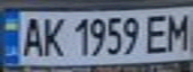1: (69, 15, 90, 57)
5: (103, 14, 127, 56)
9: (121, 14, 145, 56), (87, 15, 109, 56)
A: (18, 14, 45, 58)
E: (142, 11, 172, 54)
K: (39, 14, 66, 58)
M: (163, 10, 193, 52)
